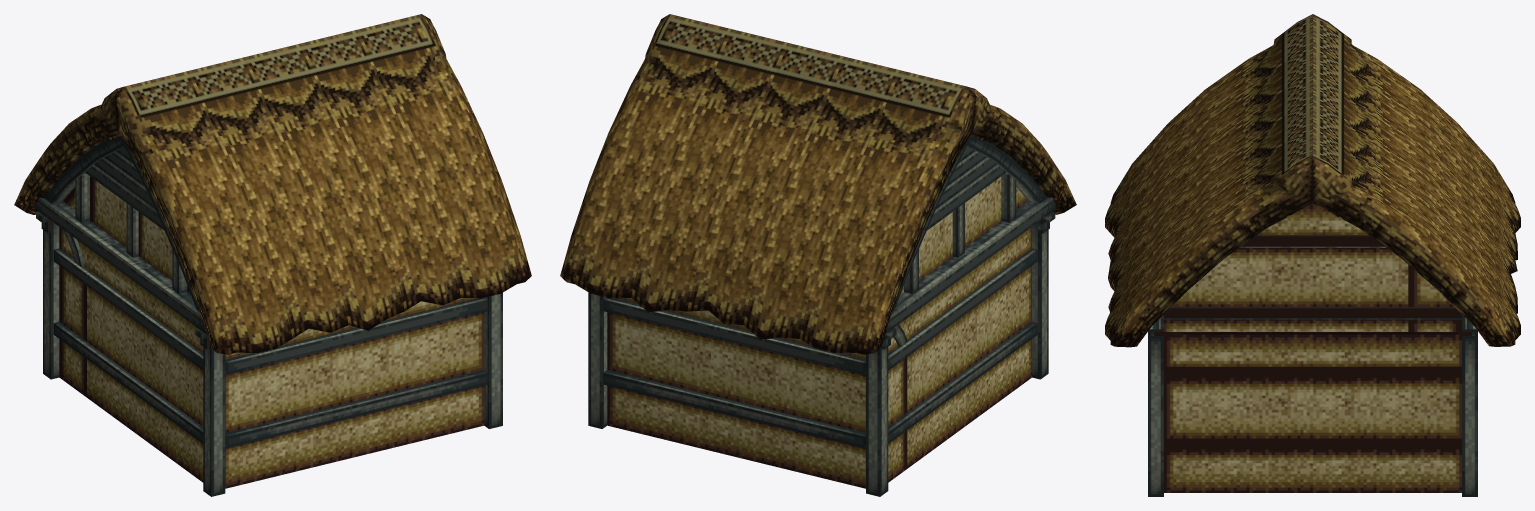
File: EnvBdgMD_Forest_A_Outdoor_House_D.FBX
The picture shows the model from 3 angles, left to right: view 1: azimuth 30°, elevation 25°; view 2: azimuth 150°, elevation 25°; view 3: azimuth 270°, elevation 25°; orthographic projection. The views are drawn at different scales.
Visible parts, largest first — view 1: EnvBdgMD_Forest_A_Outdoor_House_D; view 2: EnvBdgMD_Forest_A_Outdoor_House_D; view 3: EnvBdgMD_Forest_A_Outdoor_House_D.
Part boxes in pixels (<box>): EnvBdgMD_Forest_A_Outdoor_House_D: <box>14,14,531,496</box>; EnvBdgMD_Forest_A_Outdoor_House_D: <box>560,14,1076,496</box>; EnvBdgMD_Forest_A_Outdoor_House_D: <box>1105,14,1520,496</box>.
Size of the model in its own units: 563 by 595 by 655.
